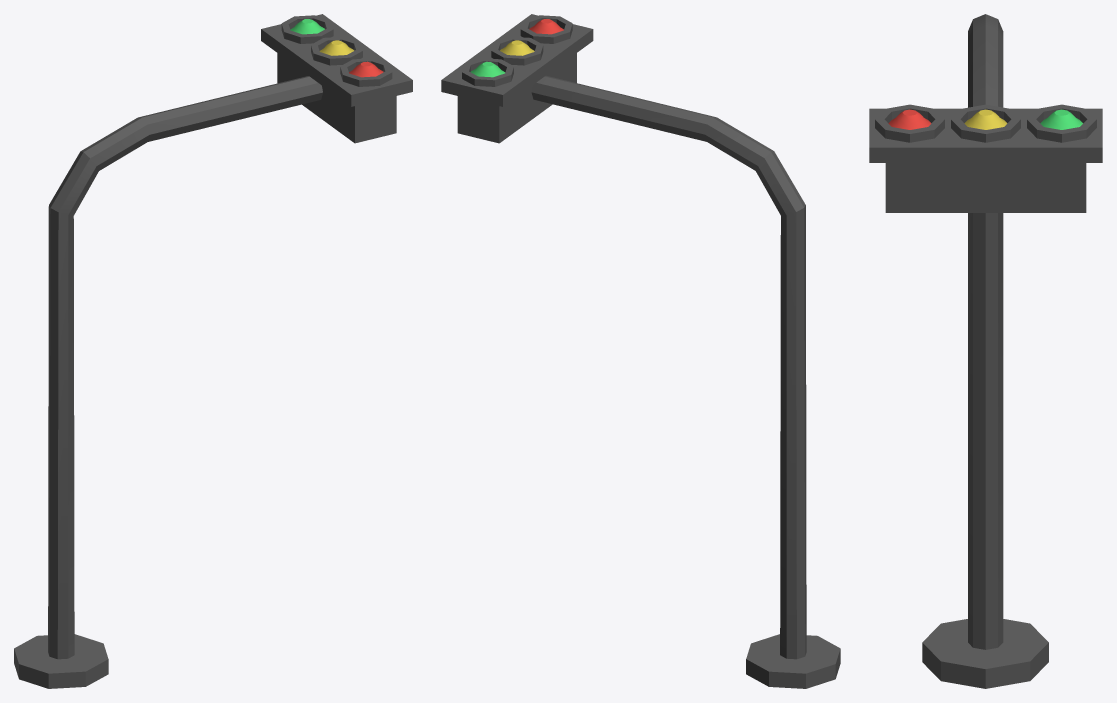
The model's file is turnedLight.fbx.
3 views of the same model, side by side, from view 1: azimuth 30°, elevation 25°; view 2: azimuth 150°, elevation 25°; view 3: azimuth 270°, elevation 25° (orthographic). The views are drawn at different scales.
Visible parts, largest first — view 1: 4. traffic-lights-curved; view 2: 4. traffic-lights-curved; view 3: 4. traffic-lights-curved.
Part boxes in pixels (x1=…): 4. traffic-lights-curved: x1=14, y1=14, x2=412, y2=688; 4. traffic-lights-curved: x1=441, y1=14, x2=840, y2=688; 4. traffic-lights-curved: x1=869, y1=14, x2=1102, y2=688.
Size of the model in its own units: 289 by 442 by 129.
